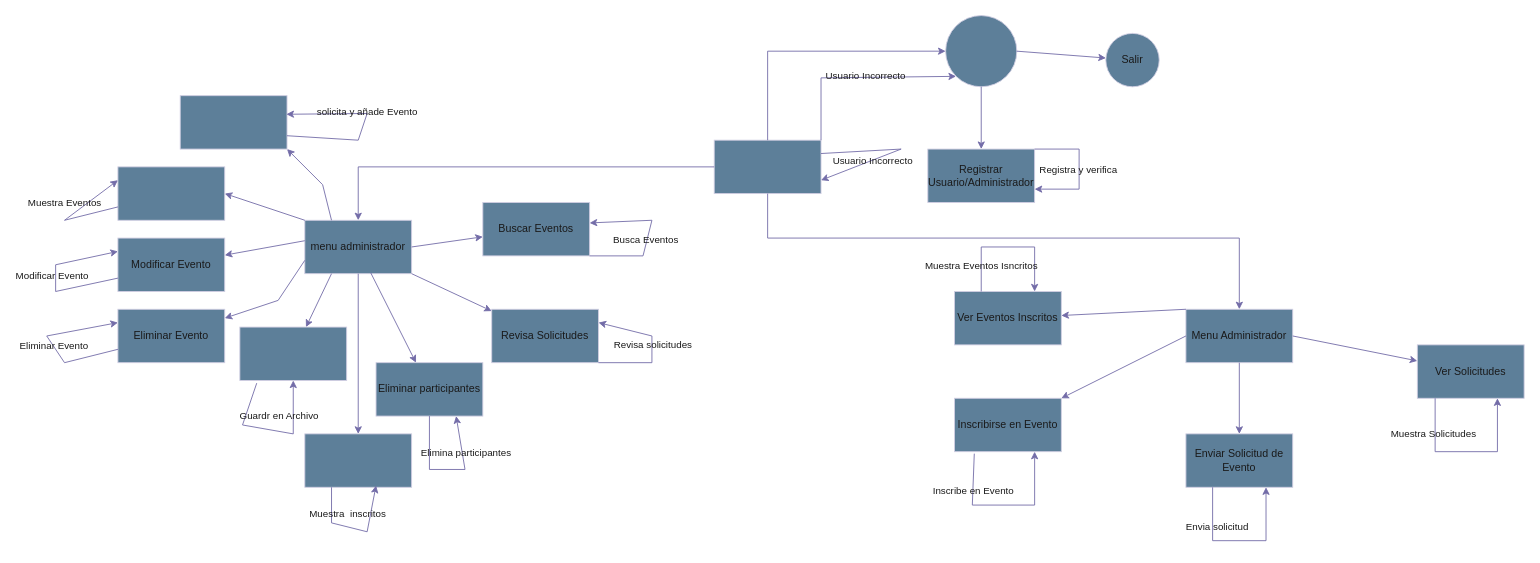
This 1540x563 diagram has some shape labels left out. Each missing label, with the centre of its shape:
Crear Evento: the point at 233,122
Guardar Eventos en Archivo: the point at 293,353
Iniciar Sesion: the point at 767,166
Inicio: the point at 981,51
Mostrar Inscritos: the point at 358,460
Ver Evento: the point at 171,193
